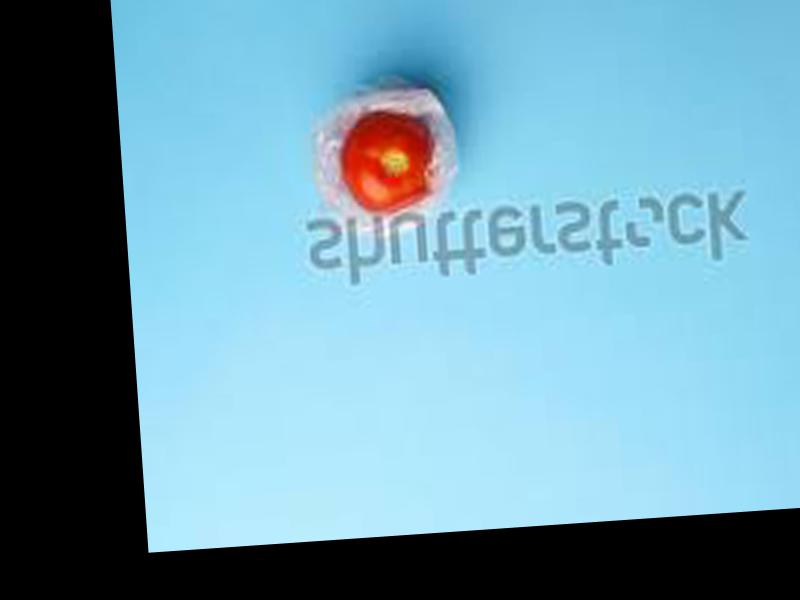Tomato: (340, 110, 439, 215)
